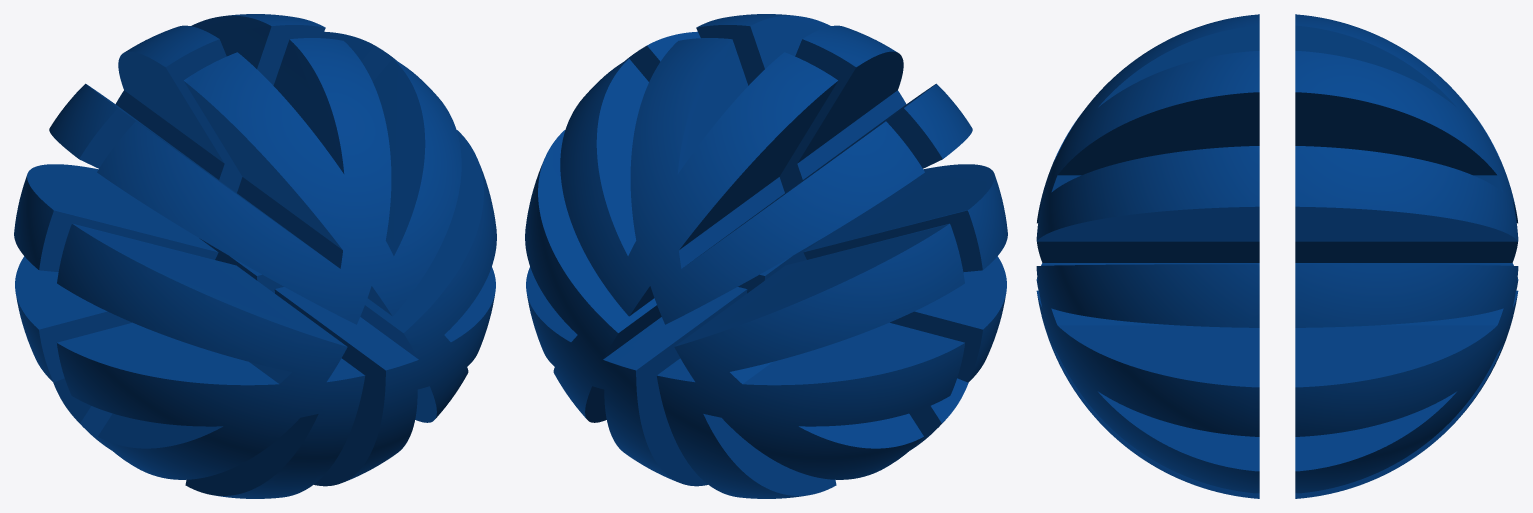
Rendered from Frenchfaso Lod_0.FBX.
3 renders of one model, left to right at view 1: azimuth 30°, elevation 25°; view 2: azimuth 150°, elevation 25°; view 3: azimuth 270°, elevation 25°, orthographic.
Parts seen in each view (by area): view 1: GeoSphere01; view 2: GeoSphere01; view 3: GeoSphere01.
Boxes of the visible parts, x1,y1,x2,y2 form: GeoSphere01: (14, 14, 496, 498); GeoSphere01: (525, 14, 1007, 498); GeoSphere01: (1036, 14, 1518, 498).
Bounding box in the file's own units: 40.33 × 40.39 × 40.43.
